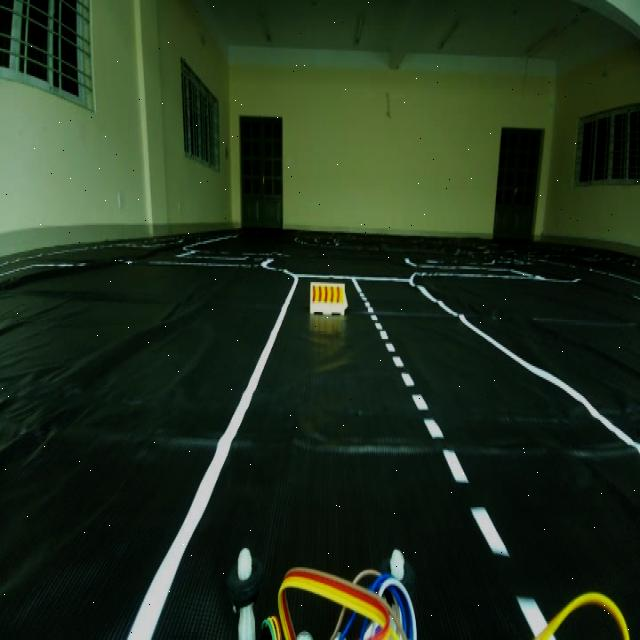roadblock: (308, 276, 350, 323)
